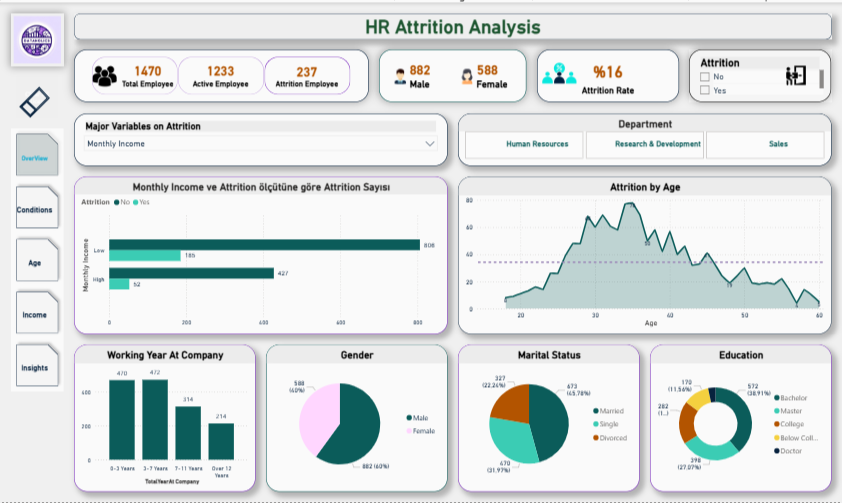

The page's visual inventory and layout, read from the dashboard file:
{"tool":"powerbi","page":{"name":"OverView","canvas":[1600,950],"ordinal":0},"visuals":[{"type":"cardVisual","fields":{"Data":["AllMeasures.Count Male","AllMeasures.Count of Female"]},"box":[720,90,280,100],"z":0},{"type":"pieChart","title":" Gender","fields":{"Y":["CountNonNull(HR-Employee-Attrition.Gender)"],"Series":["HR-Employee-Attrition.Gender"],"Category":["HR-Employee-Attrition.Gender"]},"box":[505,650,345,280],"z":1000},{"type":"pieChart","title":"Marital Status","fields":{"Category":["HR-Employee-Attrition.MaritalStatus"],"Y":["CountNonNull(HR-Employee-Attrition.Attrition)"]},"box":[870,650,345,280],"z":2000},{"type":"lineChart","title":"Attrition by Age","fields":{"Category":["HR-Employee-Attrition.Age"],"Y":["CountNonNull(HR-Employee-Attrition.Attrition)"]},"box":[870,330,710,300],"z":3000},{"type":"donutChart","title":"Education","fields":{"Category":["HR-Employee-Attrition.New Education"],"Y":["CountNonNull(HR-Employee-Attrition.Attrition)"]},"box":[1235,650,345,280],"z":4000},{"type":"columnChart","title":" Working Year At Company","fields":{"Y":["CountNonNull(HR-Employee-Attrition.Attrition)"],"Category":["HR-Employee-Attrition.New TotalYearAt Company"]},"box":[140,650,345,280],"z":5000},{"type":"cardVisual","fields":{"Data":["AllMeasures.Total_Employee","AllMeasures.Active Employee","AllMeasures.Passive Employee"]},"box":[140,90,560,100],"z":6000},{"type":"shape","title":"Workforce Planning","box":[140,20,1440,50],"z":7000},{"type":"cardVisual","fields":{"Data":["AllMeasures.Attrition Rate"]},"box":[1020,90,270,100],"z":7000,"group":"g2"},{"type":"image","box":[20,20,100,100],"z":8000},{"type":"slicer","title":"Attrition","fields":{"Values":["HR-Employee-Attrition.Attrition"]},"box":[1310,90,270,100],"z":9000,"group":"g1"},{"type":"slicer","fields":{"Values":["X Asis.X Asis"]},"box":[140,210,710,100],"z":9000},{"type":"group","id":"g1","title":"Group 1","box":[1310,90,270,100],"z":10000},{"type":"group","id":"g2","title":"Group 2","box":[1020,90,270,100],"z":11000},{"type":"advancedSlicerVisual","fields":{"Values":["HR-Employee-Attrition.Department"]},"box":[870,210,710,100],"z":12000},{"type":"pageNavigator","box":[20,240,100,500],"z":13000},{"type":"actionButton","box":[30,140,80,80],"z":14000},{"type":"image","box":[1463.9,106.3,99.9,65.2],"z":15000,"group":"g1"},{"type":"clusteredBarChart","fields":{"Category":["HR-Employee-Attrition.Monthly Income"],"Y":["CountNonNull(HR-Employee-Attrition.Attrition)"],"Series":["HR-Employee-Attrition.Attrition"]},"box":[140,330,710,300],"z":15000},{"type":"image","box":[1020,96.7,85.5,75],"z":16000,"group":"g2"}]}

Visuals, with their boxes on the page's 1600x950 design canvas (x1, y1, x2, y2). These are canvas units, not pixel positions in the 842x503 screenshot, which may show the page scaled, cropped or inside an application window:
cardVisual - AllMeasures.Count Male x AllMeasures.Count of Female: <bbox>720, 90, 1000, 190</bbox>
" Gender" pieChart: <bbox>505, 650, 850, 930</bbox>
"Marital Status" pieChart: <bbox>870, 650, 1215, 930</bbox>
"Attrition by Age" lineChart: <bbox>870, 330, 1580, 630</bbox>
"Education" donutChart: <bbox>1235, 650, 1580, 930</bbox>
" Working Year At Company" columnChart: <bbox>140, 650, 485, 930</bbox>
cardVisual - AllMeasures.Total_Employee x AllMeasures.Active Employee: <bbox>140, 90, 700, 190</bbox>
"Workforce Planning" shape: <bbox>140, 20, 1580, 70</bbox>
cardVisual - AllMeasures.Attrition Rate: <bbox>1020, 90, 1290, 190</bbox>
image: <bbox>20, 20, 120, 120</bbox>
"Attrition" slicer: <bbox>1310, 90, 1580, 190</bbox>
slicer - X Asis.X Asis: <bbox>140, 210, 850, 310</bbox>
"Group 1" group: <bbox>1310, 90, 1580, 190</bbox>
"Group 2" group: <bbox>1020, 90, 1290, 190</bbox>
advancedSlicerVisual - HR-Employee-Attrition.Department: <bbox>870, 210, 1580, 310</bbox>
pageNavigator: <bbox>20, 240, 120, 740</bbox>
actionButton: <bbox>30, 140, 110, 220</bbox>
image: <bbox>1464, 106, 1564, 172</bbox>
clusteredBarChart - HR-Employee-Attrition.Monthly Income x CountNonNull(HR-Employee-Attrition.Attrition): <bbox>140, 330, 850, 630</bbox>
image: <bbox>1020, 97, 1106, 172</bbox>
